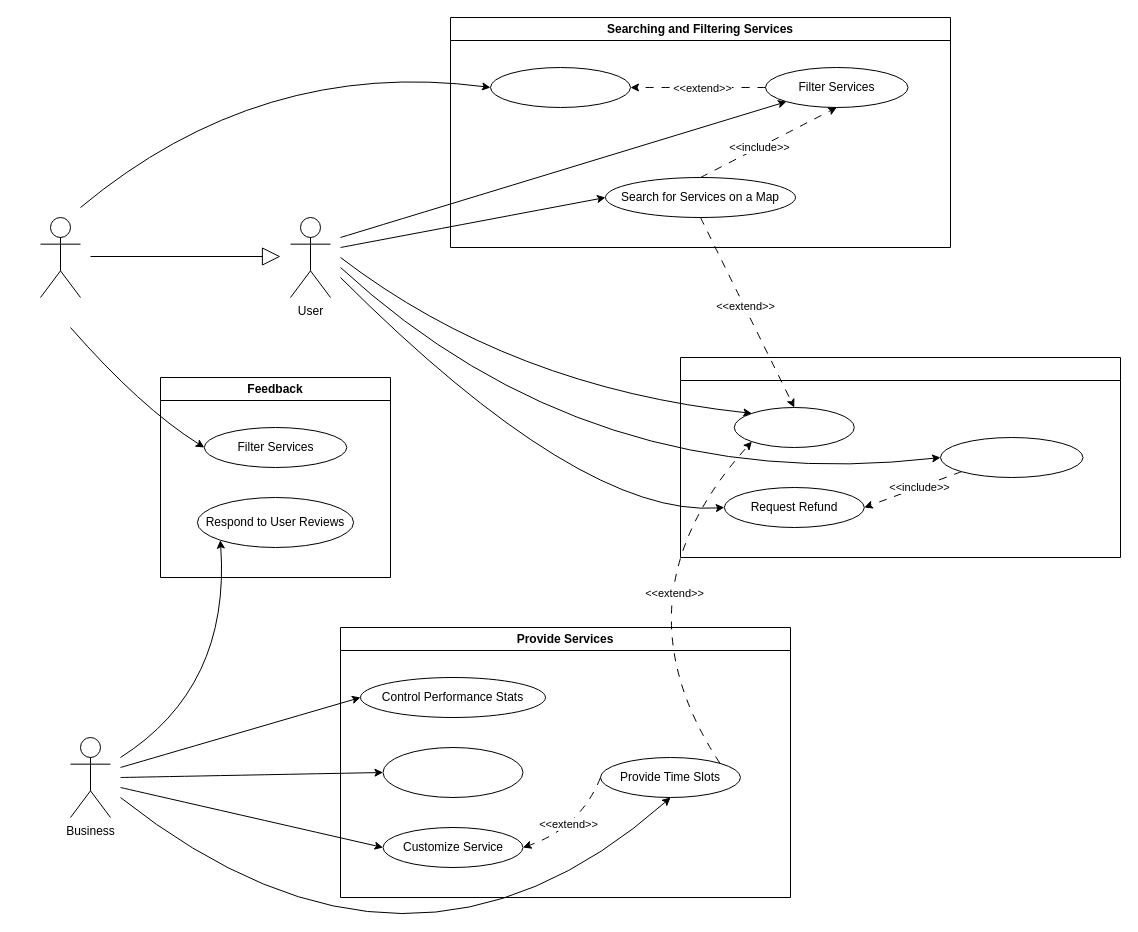
Image size: 1138x932. Some labels were removed from this diagram. Here are the shapes that lost their labels. From the top down, the box of each, then its label:
(490, 66, 630, 108): Show Service History
(40, 216, 80, 298): Registered User
(733, 406, 854, 448): Book Service
(680, 356, 1120, 558): Booking Services
(940, 436, 1083, 478): Cancel Booked Service
(382, 746, 523, 798): Add New Certifications
